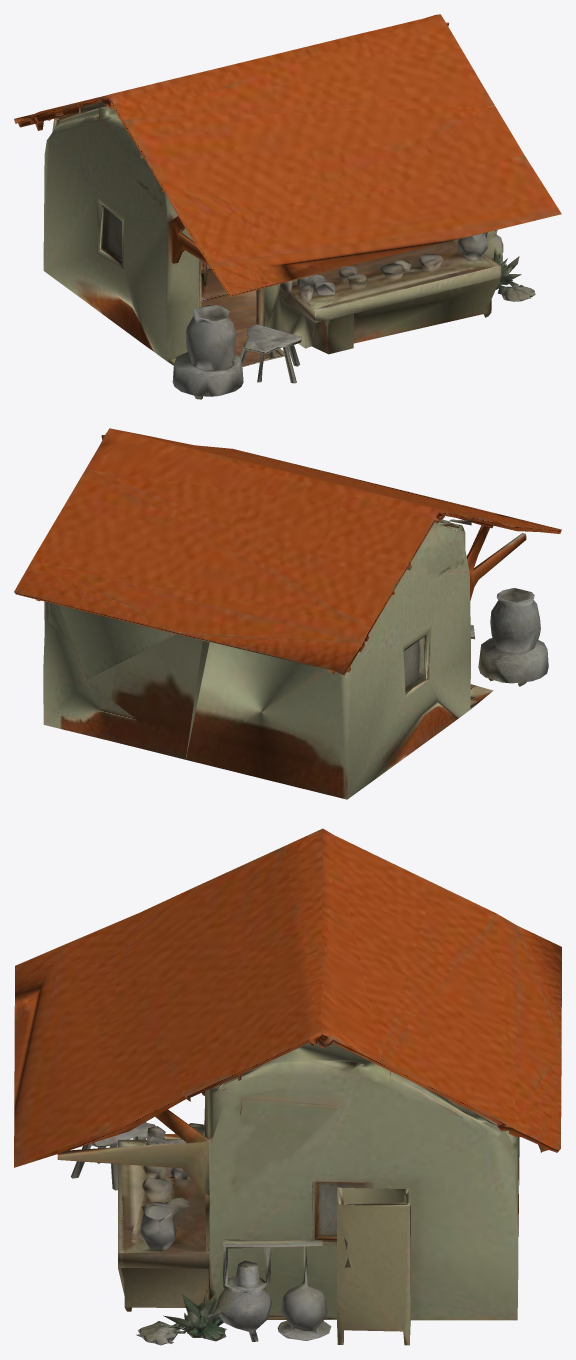
The model's file is canteen.glb.
3 views of the same model, one above another, from view 1: azimuth 30°, elevation 25°; view 2: azimuth 150°, elevation 25°; view 3: azimuth 270°, elevation 25° (orthographic). The views are drawn at different scales.
Size of the model in its own units: 1.88 by 1.12 by 1.86.
Materials: 1 (1 with a texture image).
